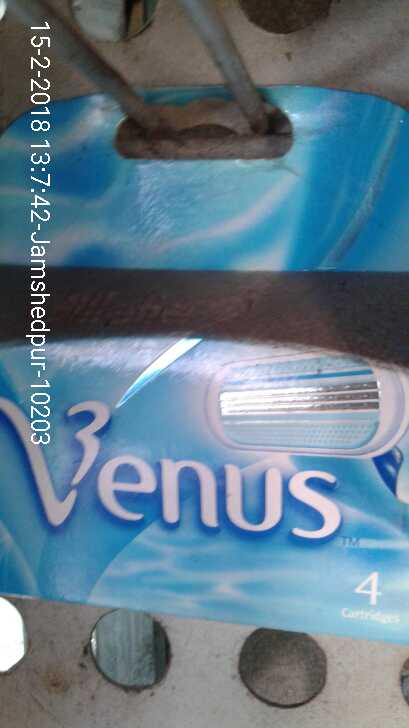reject: (123, 380, 235, 499)
